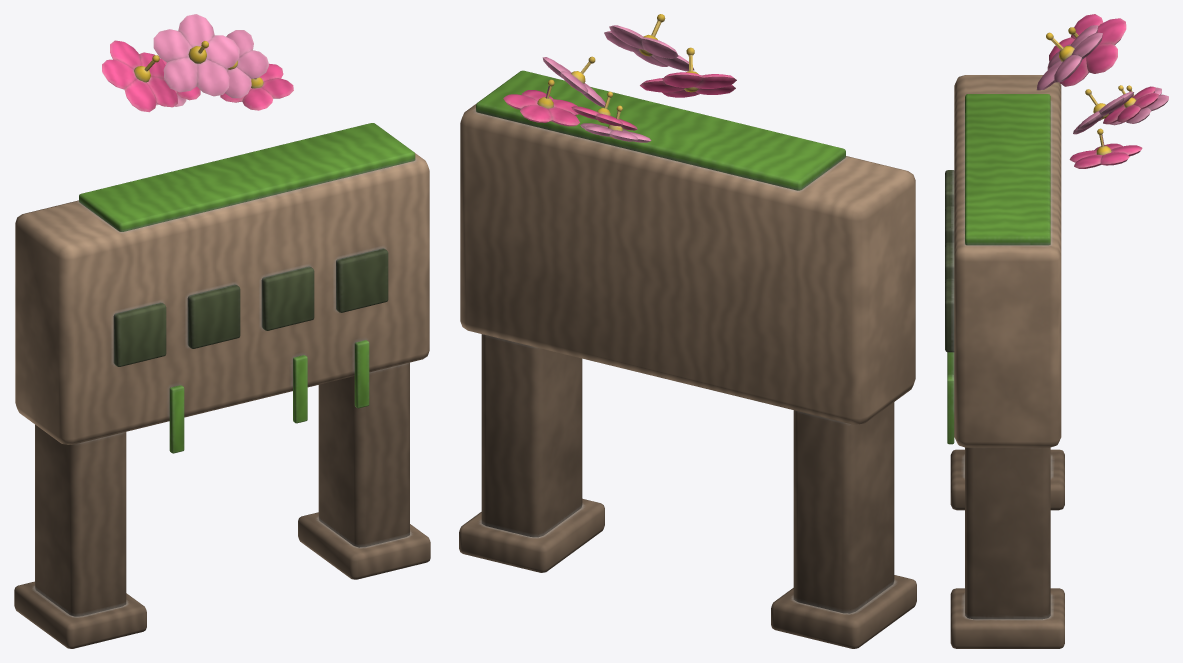
Rendered from en_obstacle_vine_beam.glb.
3 views of the same model, side by side, from view 1: azimuth 30°, elevation 25°; view 2: azimuth 150°, elevation 25°; view 3: azimuth 270°, elevation 25° (orthographic). The views are drawn at different scales.
Visible parts, largest first — view 1: en_obstacle_vine_beam; view 2: en_obstacle_vine_beam; view 3: en_obstacle_vine_beam.
Part boxes in pixels (<box>): en_obstacle_vine_beam: <box>14,14,430,648</box>; en_obstacle_vine_beam: <box>459,14,916,648</box>; en_obstacle_vine_beam: <box>945,14,1168,648</box>.
Bounding box in the file's own units: 3 × 4.13 × 1.57.
Materials: 7 (7 with a texture image).
